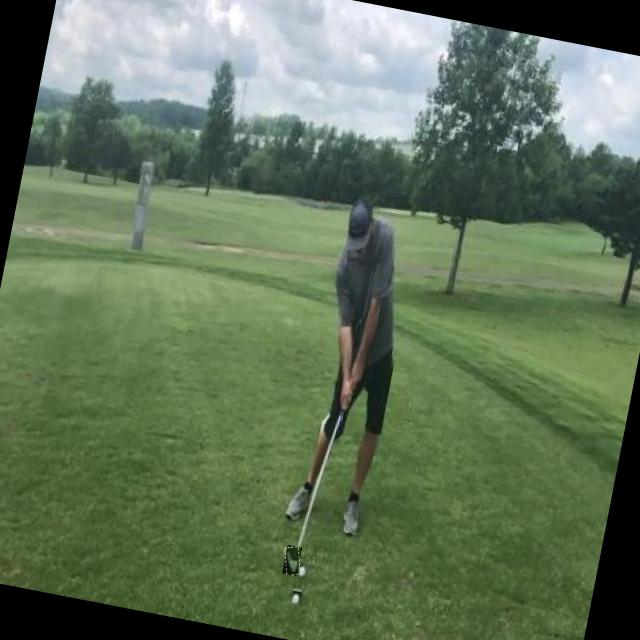club head: (282, 545, 302, 576)
